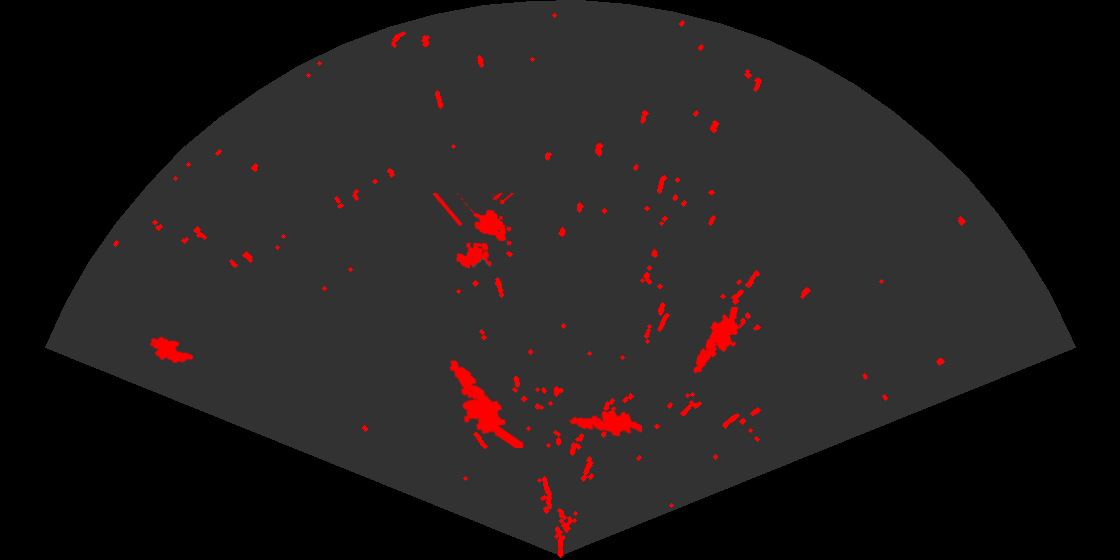AUV: (148, 335, 195, 365)
cage: (433, 193, 516, 270)
frogman: (448, 358, 523, 448), (692, 307, 741, 375), (568, 405, 642, 438)
